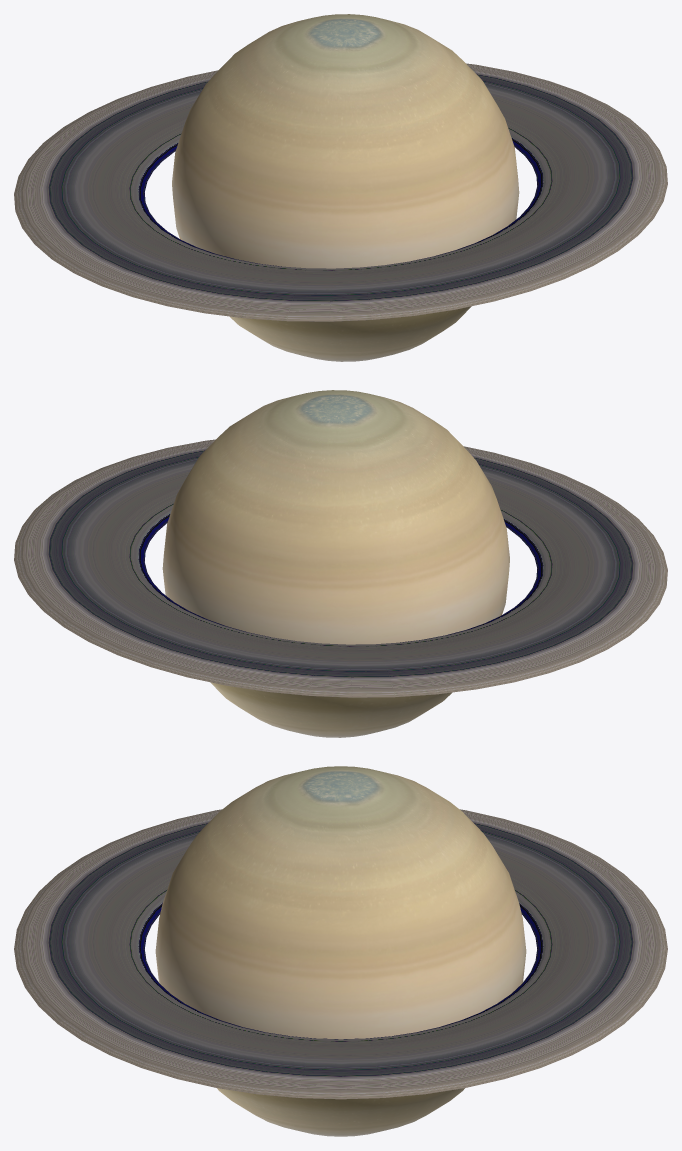
File: Saturn.glb
The picture shows the model from 3 angles, top to bottom: view 1: azimuth 30°, elevation 25°; view 2: azimuth 150°, elevation 25°; view 3: azimuth 270°, elevation 25°; orthographic projection. The views are drawn at different scales.
Visible parts, largest first — view 1: Sphere, Torus; view 2: Sphere, Torus; view 3: Sphere, Torus.
Boxes of the visible parts, <box> form: Sphere: <box>172,14,519,361</box>; Torus: <box>14,63,667,321</box>; Sphere: <box>162,390,509,737</box>; Torus: <box>14,439,667,697</box>; Sphere: <box>155,766,526,1136</box>; Torus: <box>14,809,667,1099</box>.
Size of the model in its own units: 5.36 by 2.8 by 4.93.
Materials: 2 (2 with a texture image).
